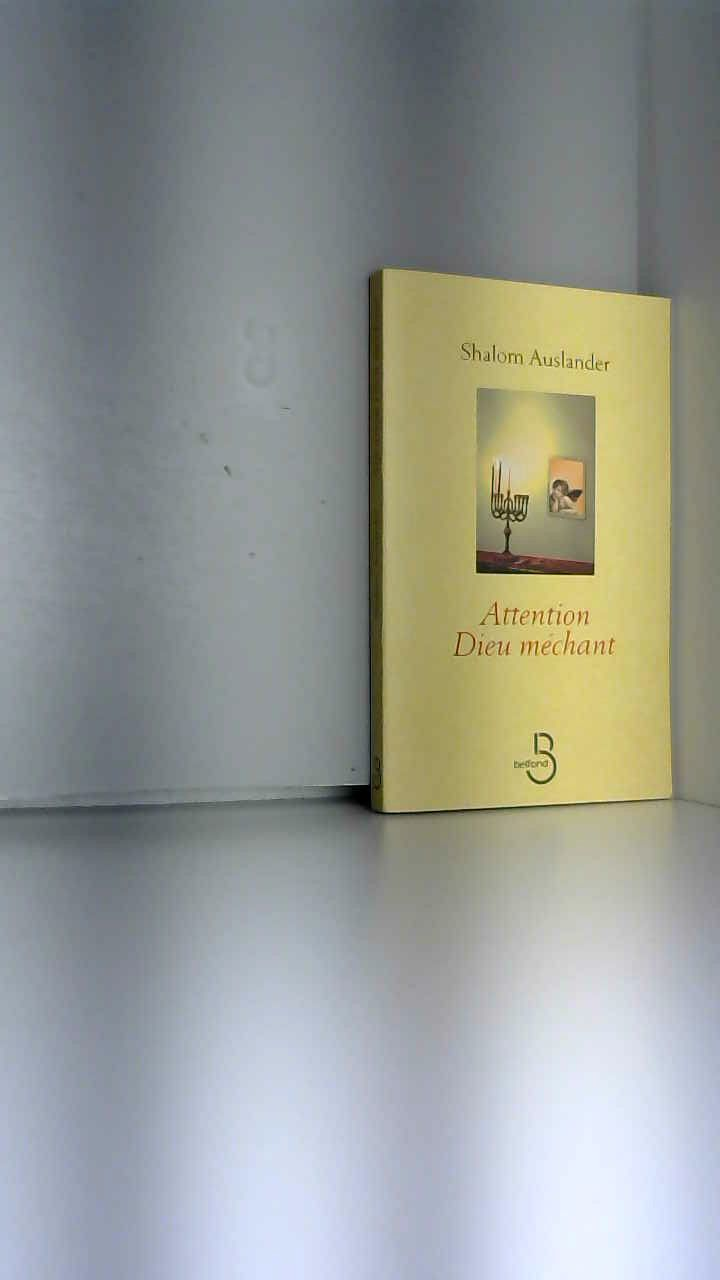book: (340, 240, 720, 857)
